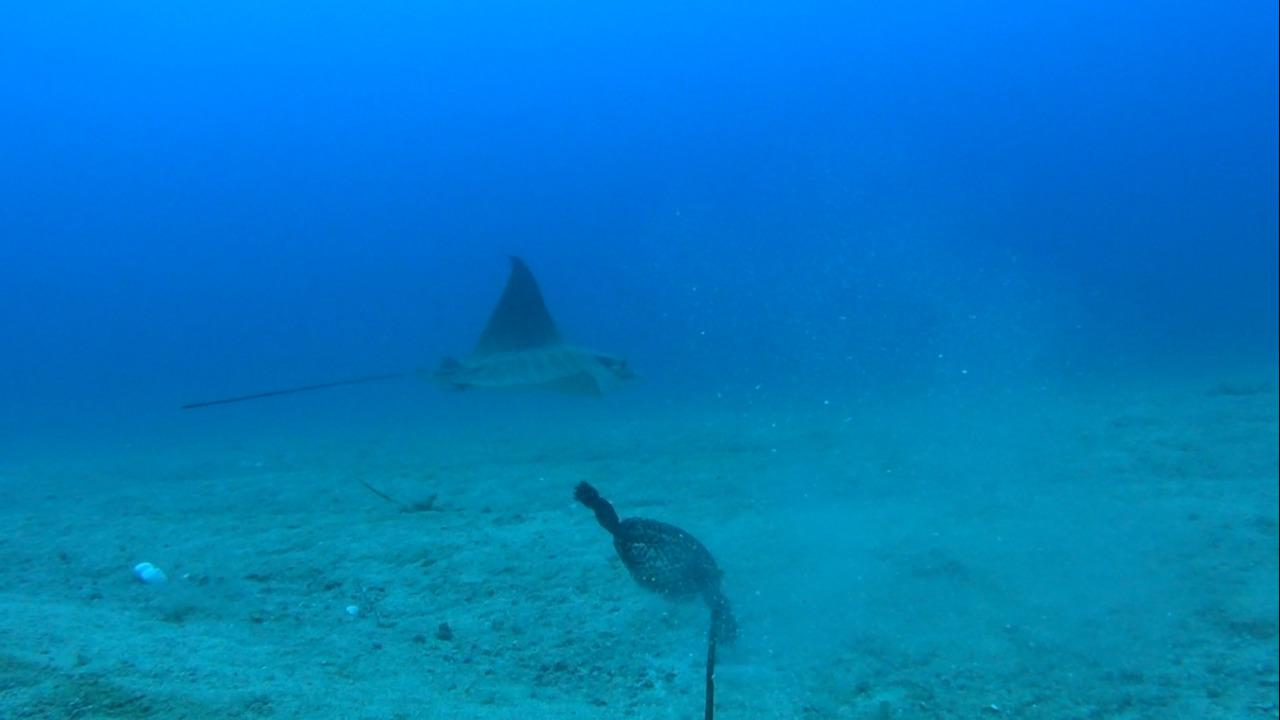myliobatis: (157, 248, 648, 423)
